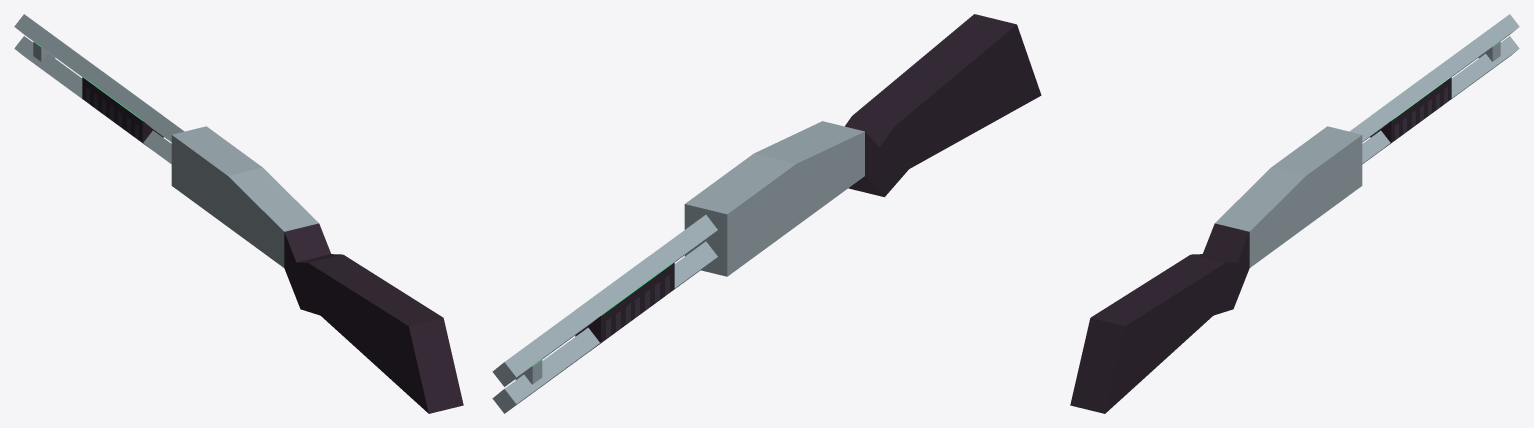
Rendered from shotgun.gltf.
The picture shows the model from 3 angles, left to right: view 1: azimuth 30°, elevation 25°; view 2: azimuth 150°, elevation 25°; view 3: azimuth 330°, elevation 25°; orthographic projection. The views are drawn at different scales.
Visible parts, largest first — view 1: mesh; view 2: mesh; view 3: mesh.
Boxes of the visible parts, x1,y1,x2,y2 form: mesh: (14,14,463,413); mesh: (492,14,1041,413); mesh: (1070,14,1519,413).
Size of the model in its own units: 0.0781 by 0.1948 by 1.64.
1 material, 1 textured.
